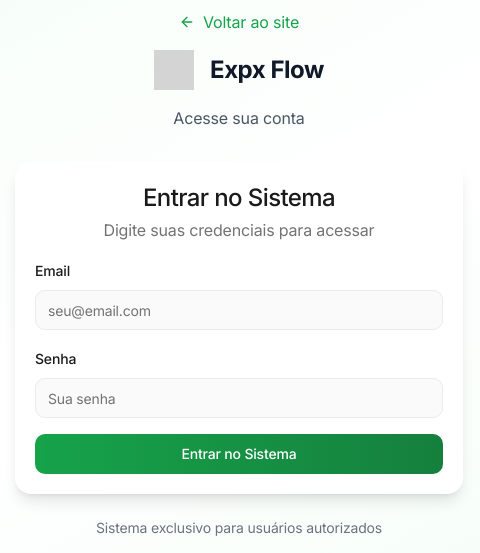
Test: AuthPage › deve exibir loading enquanto carrega
Expected: the button "Entrar no Sistema" is shown, x1=35 y1=434 x2=443 y2=474
Type "test@test.com" into the field labelled "Email".
click(239, 310); type("test@test.com")  # box x1=35 y1=290 x2=443 y2=330
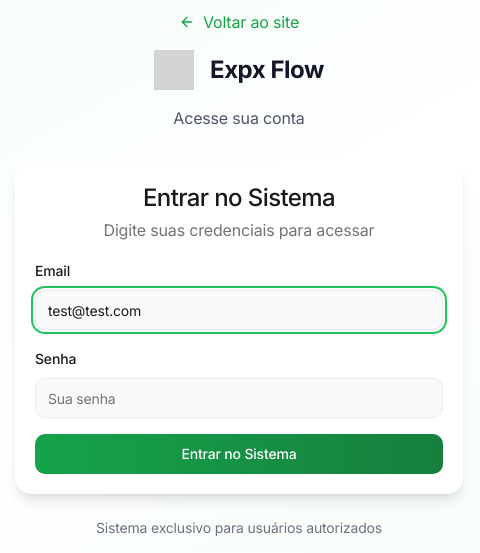
Type "123456" into the password field labelled "Senha".
click(239, 398); type("123456")  # box x1=35 y1=378 x2=443 y2=418
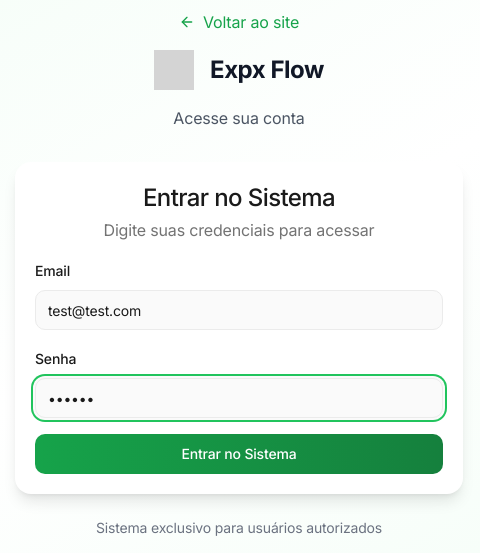
Click the button "Entrar no Sistema".
click(239, 454)  # box x1=35 y1=434 x2=443 y2=474
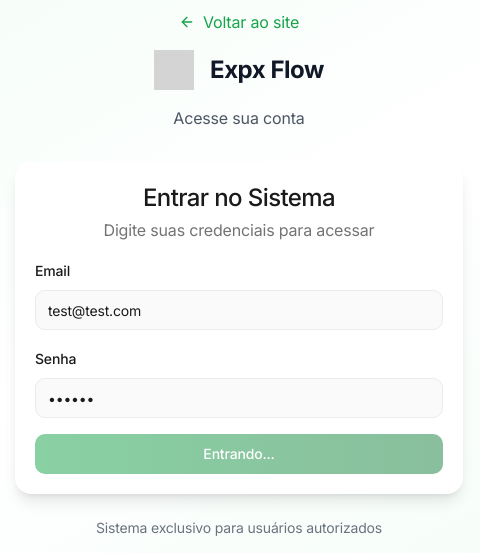
Expected: the button "Entrando..." is shown, x1=35 y1=434 x2=443 y2=474
